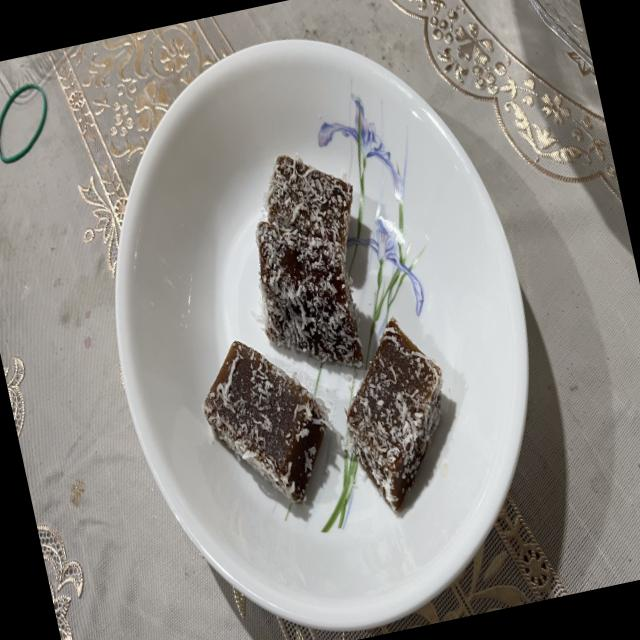kaswi: (204, 340, 326, 502), (347, 318, 442, 511), (256, 220, 362, 366), (266, 154, 352, 261)
